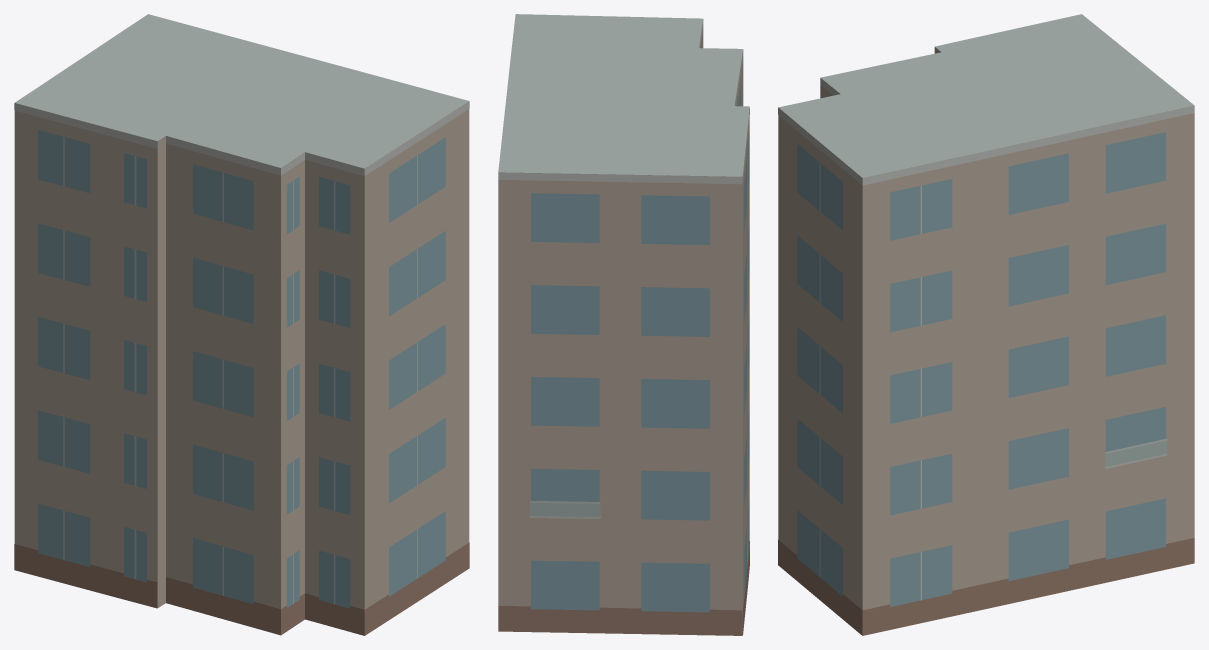
The model's file is survey-upis-33025407.glb.
3 views of the same model, side by side, from view 1: azimuth 30°, elevation 25°; view 2: azimuth 150°, elevation 25°; view 3: azimuth 270°, elevation 25° (orthographic). The views are drawn at different scales.
Parts seen in each view (by area): view 1: survey-upis-33025407.tmp; view 2: survey-upis-33025407.tmp; view 3: survey-upis-33025407.tmp.
Boxes of the visible parts, x1,y1,x2,y2 form: survey-upis-33025407.tmp: (14, 14, 469, 635); survey-upis-33025407.tmp: (498, 14, 749, 635); survey-upis-33025407.tmp: (778, 14, 1194, 635).
Size of the model in its own units: 11.54 by 15 by 12.38.
